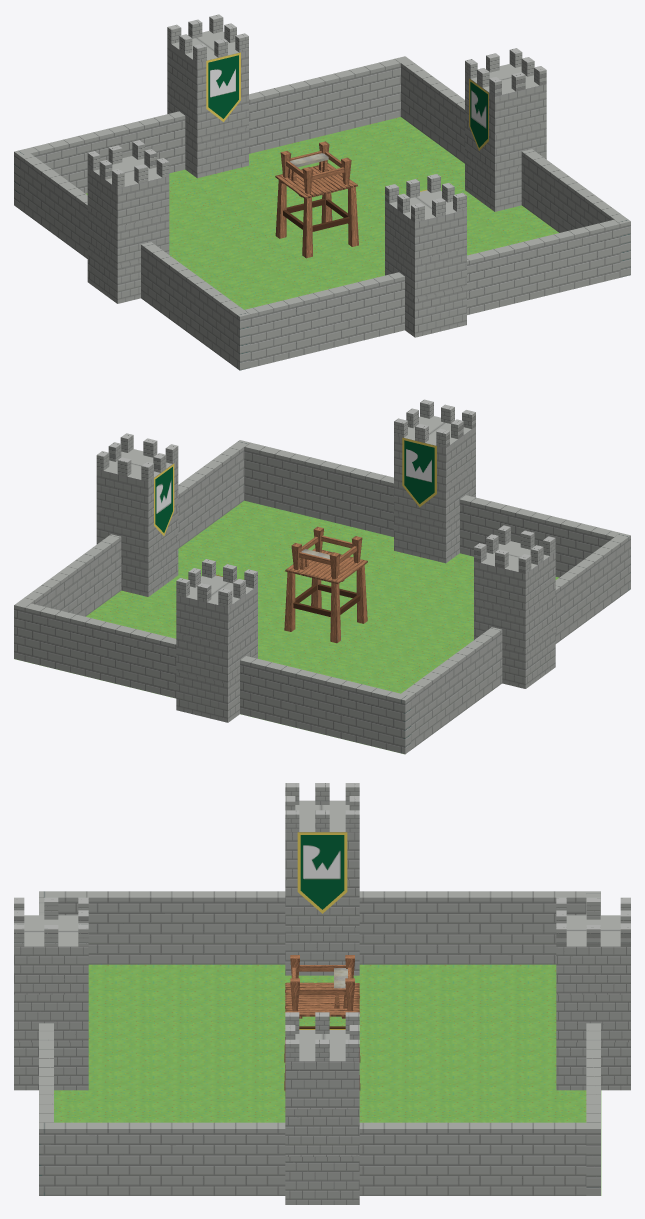
The model's file is ArcheryLevel.fbx.
3 renders of one model, top to bottom at view 1: azimuth 30°, elevation 25°; view 2: azimuth 150°, elevation 25°; view 3: azimuth 270°, elevation 25°, orthographic. The views are drawn at different scales.
Parts seen in each view (by area): view 1: Walls, Ground, TowerS, TowerN, TowerW, TowerE, PlatformBottom, Planks, Corners, Rails; view 2: Walls, Ground, TowerN, TowerS, TowerW, TowerE, PlatformBottom, Planks, Corners, Rails; view 3: Walls, Ground, TowerW, TowerE, TowerS, TowerN, Planks, Corners, Rails.
Part boxes in pixels (x1,y1,x2,y2): Walls: [14, 56, 630, 370]; Ground: [86, 117, 558, 309]; TowerS: [167, 14, 248, 178]; TowerN: [385, 174, 466, 337]; TowerW: [465, 48, 546, 211]; TowerE: [87, 140, 169, 303]; PlatformBottom: [275, 180, 358, 258]; Planks: [275, 163, 357, 198]; Corners: [280, 141, 351, 194]; Rails: [286, 151, 344, 180]; Walls: [14, 440, 630, 754]; Ground: [14, 500, 558, 753]; TowerN: [394, 399, 475, 563]; TowerS: [176, 559, 257, 722]; TowerW: [96, 433, 178, 596]; TowerE: [474, 525, 555, 688]; PlatformBottom: [284, 565, 367, 643]; Planks: [285, 548, 367, 584]; Corners: [291, 526, 362, 579]; Rails: [299, 535, 356, 564]; Walls: [39, 891, 600, 1195]; Ground: [54, 964, 601, 1195]; TowerW: [285, 1012, 359, 1204]; TowerE: [285, 783, 359, 975]; TowerS: [556, 897, 630, 1090]; TowerN: [14, 897, 88, 1090]; Planks: [285, 982, 359, 1018]; Corners: [290, 955, 354, 1011]; Rails: [292, 965, 351, 995].
Size of the model in its own units: 2469 by 711 by 2469.
Materials: 1 (1 with a texture image).
